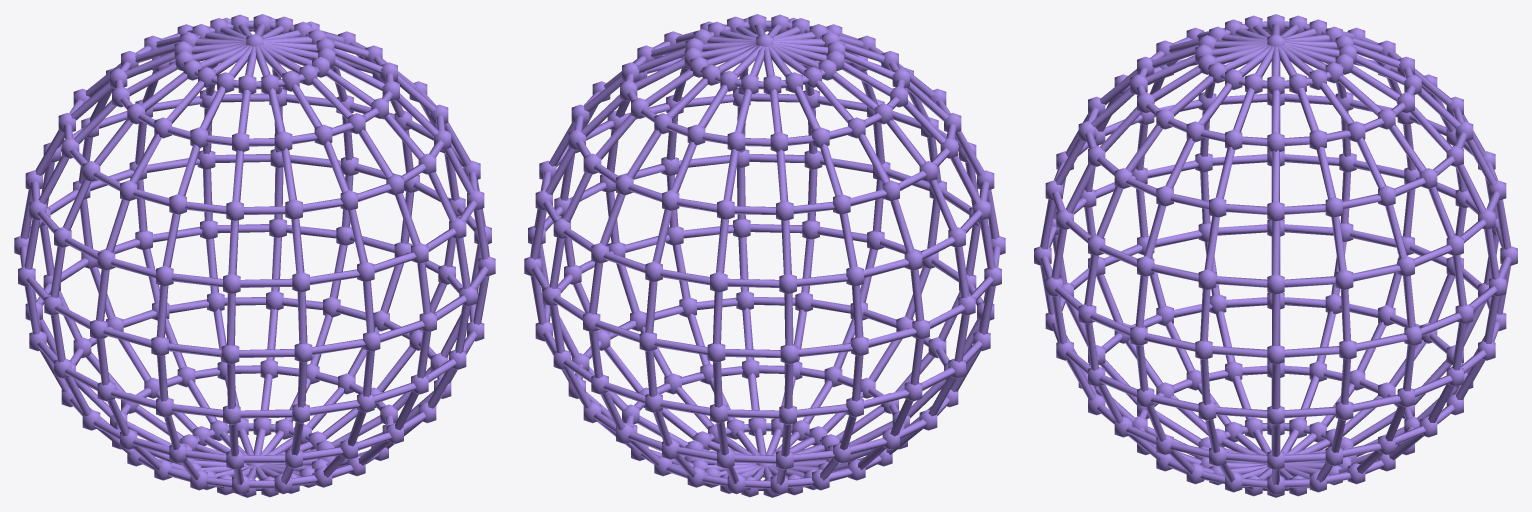
The model's file is web_purple_ball.glb.
3 renders of one model, left to right at view 1: azimuth 30°, elevation 25°; view 2: azimuth 150°, elevation 25°; view 3: azimuth 270°, elevation 25°, orthographic.
Visible parts, largest first — view 1: Object_5; view 2: Object_5; view 3: Object_5.
Boxes of the visible parts, <box> form: Object_5: <box>14,14,495,497</box>; Object_5: <box>524,14,1005,497</box>; Object_5: <box>1034,14,1517,497</box>.
Bounding box in the file's own units: 1.03 × 1.04 × 1.03.
